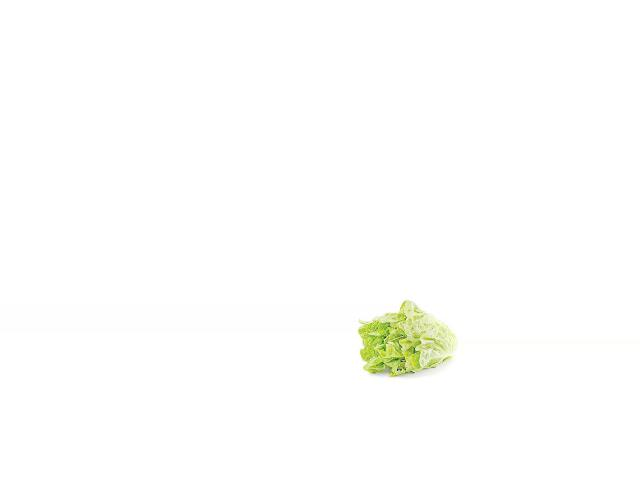lettuce: (358, 301, 457, 382)
